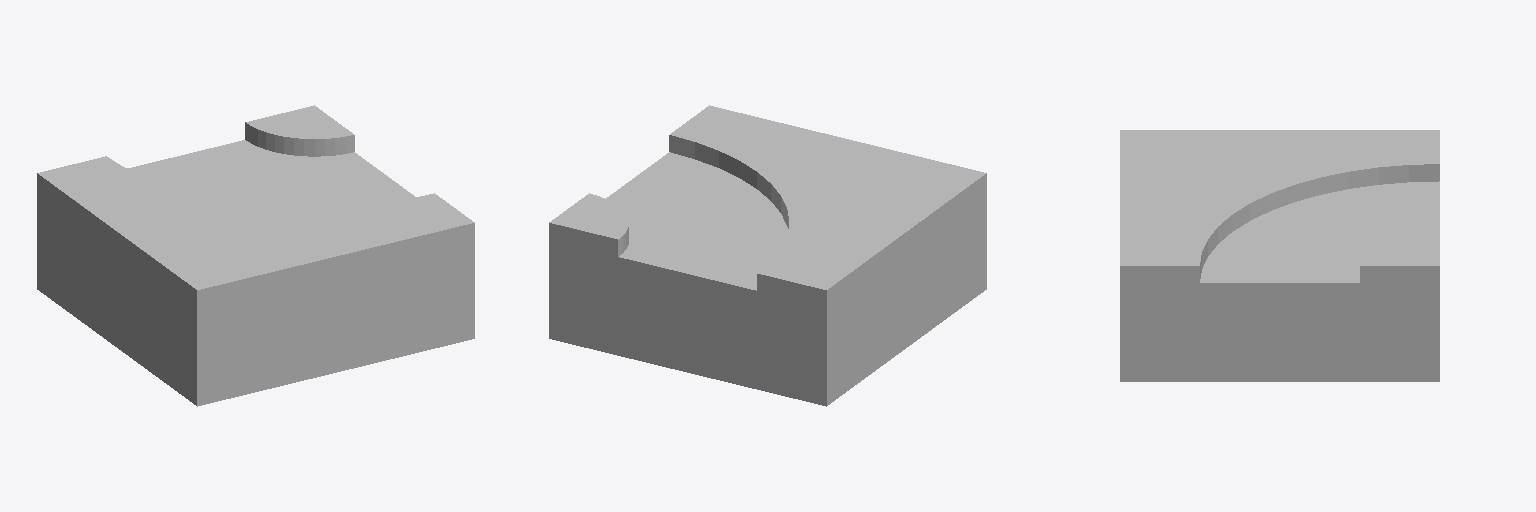
Rendered from towerDefense_086.obj.
The picture shows the model from 3 angles: view 1: azimuth 30°, elevation 25°; view 2: azimuth 150°, elevation 25°; view 3: azimuth 270°, elevation 25°; orthographic projection.
Visible parts, largest first — view 1: Mesh1 Group1 Model; view 2: Mesh1 Group1 Model; view 3: Mesh1 Group1 Model.
Part boxes in pixels (bbox=[...]): Mesh1 Group1 Model: bbox=[37, 105, 474, 406]; Mesh1 Group1 Model: bbox=[549, 105, 986, 406]; Mesh1 Group1 Model: bbox=[1120, 130, 1439, 381].
Size of the model in its own units: 1 by 0.4 by 1.